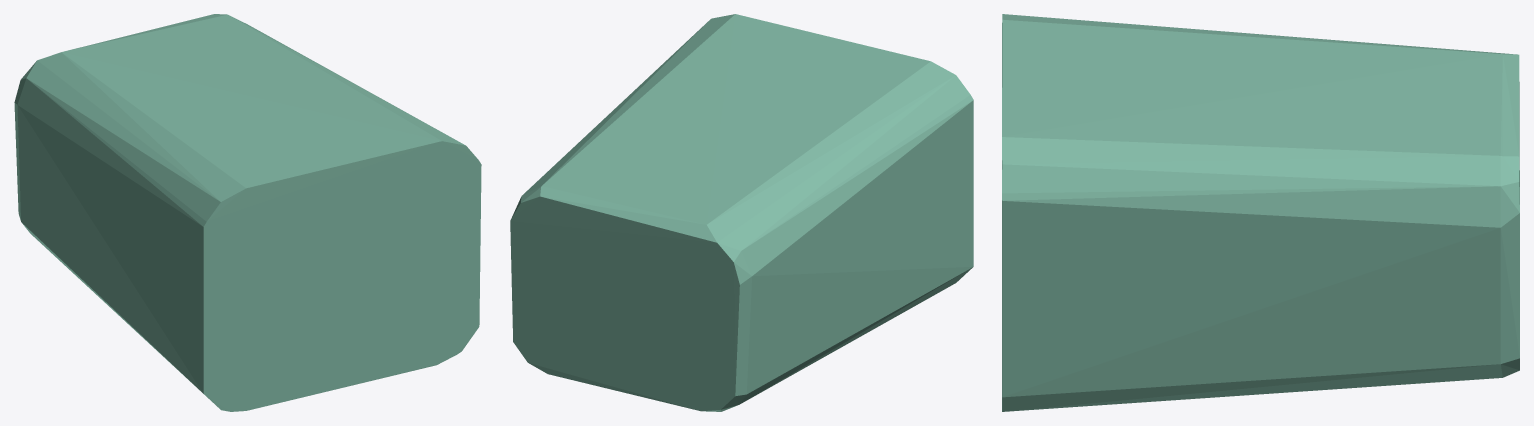
Rendered from trashCan_fireResistant_a03.glb.
3 views of the same model, side by side, from view 1: azimuth 30°, elevation 25°; view 2: azimuth 150°, elevation 25°; view 3: azimuth 270°, elevation 25° (orthographic). The views are drawn at different scales.
Visible parts, largest first — view 1: geometry_0; view 2: geometry_0; view 3: geometry_0.
Boxes of the visible parts, x1,y1,x2,y2 form: geometry_0: (14,14,481,411); geometry_0: (510,14,973,411); geometry_0: (1002,14,1519,411).
Bounding box in the file's own units: 0.3635 × 0.2791 × 0.48.
